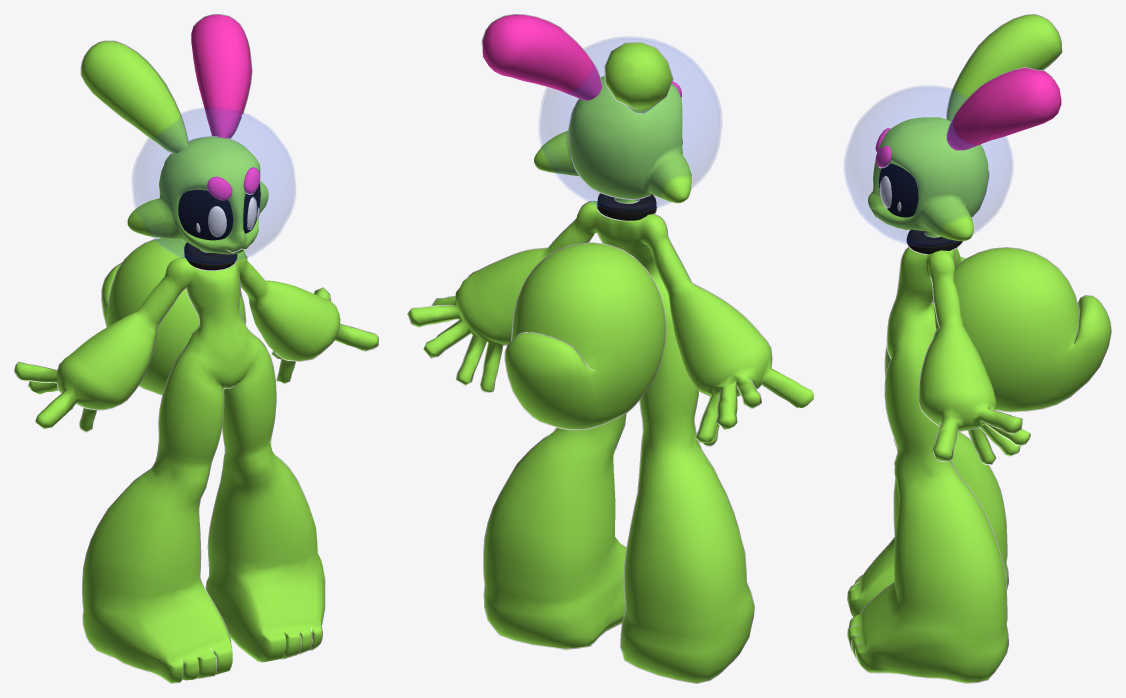
Rendered from sploot.glb.
The picture shows the model from 3 angles, left to right: view 1: azimuth 30°, elevation 25°; view 2: azimuth 150°, elevation 25°; view 3: azimuth 270°, elevation 25°; orthographic projection. The views are drawn at different scales.
Visible parts, largest first — view 1: Sploot_GEO, Sploot_Curvature_GEO; view 2: Sploot_GEO, Sploot_Curvature_GEO; view 3: Sploot_GEO, Sploot_Curvature_GEO.
Boxes of the visible parts, box(x1,y1,x2,y2) form: Sploot_GEO: box(15, 14, 378, 683); Sploot_Curvature_GEO: box(14, 14, 378, 683); Sploot_GEO: box(408, 15, 813, 682); Sploot_Curvature_GEO: box(407, 14, 772, 683); Sploot_GEO: box(846, 15, 1110, 682); Sploot_Curvature_GEO: box(847, 14, 1111, 683).
Size of the model in its own units: 0.0994 by 0.1608 by 0.0657.
Materials: 4 (4 with a texture image).
